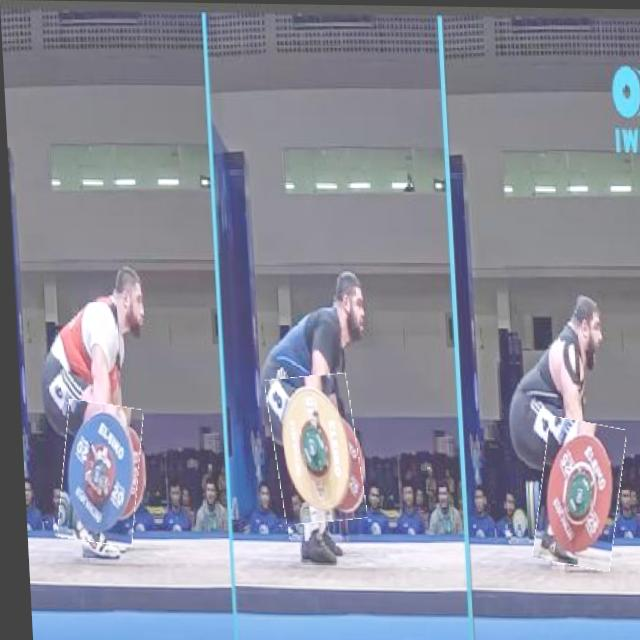barbell: (265, 374, 360, 524), (528, 418, 623, 568), (52, 402, 141, 545)
